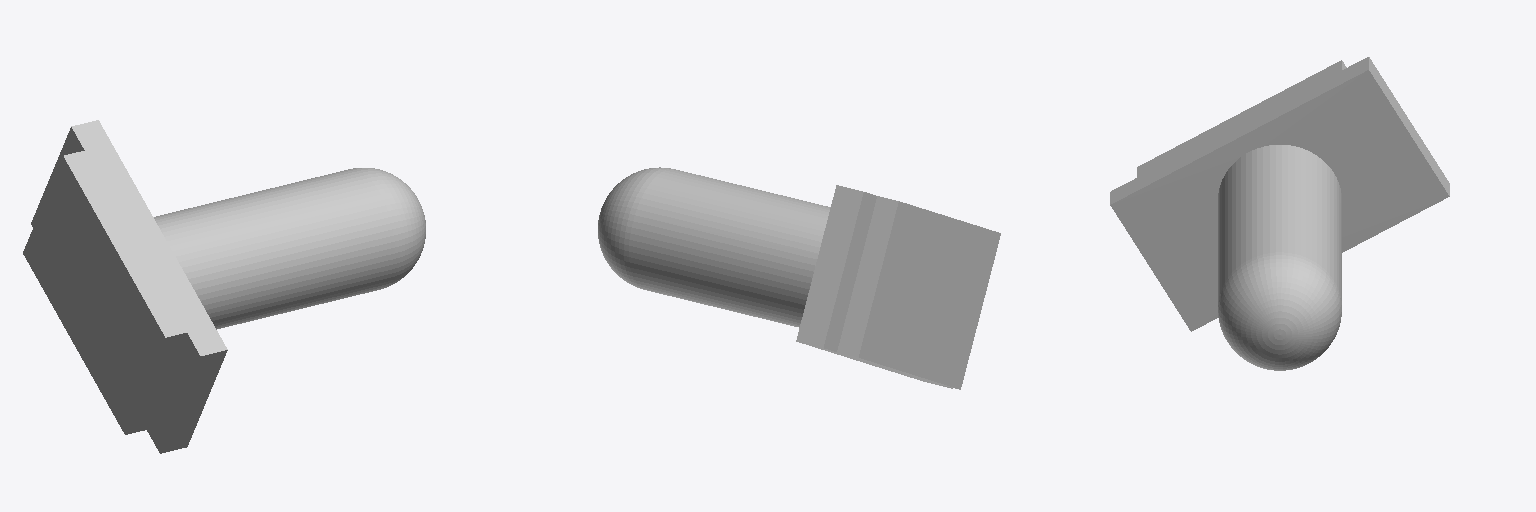
The picture shows the model from 3 angles: view 1: azimuth 30°, elevation 25°; view 2: azimuth 150°, elevation 25°; view 3: azimuth 270°, elevation 25°; orthographic projection.
Visible parts, largest first — view 1: off; view 2: off; view 3: off.
Part boxes in pixels (left/top/right/bottom): off: left=23, top=120, right=425, bottom=453; off: left=598, top=167, right=1000, bottom=389; off: left=1110, top=57, right=1449, bottom=370.
Size of the model in its own units: 0.0601 by 0.0465 by 0.0546.